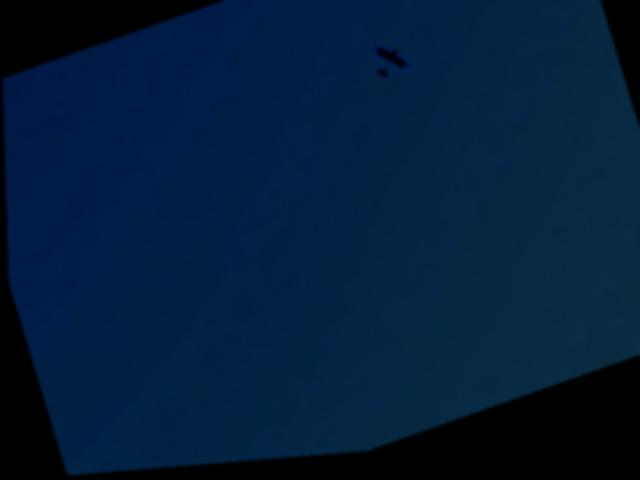uav: (367, 39, 410, 89)
